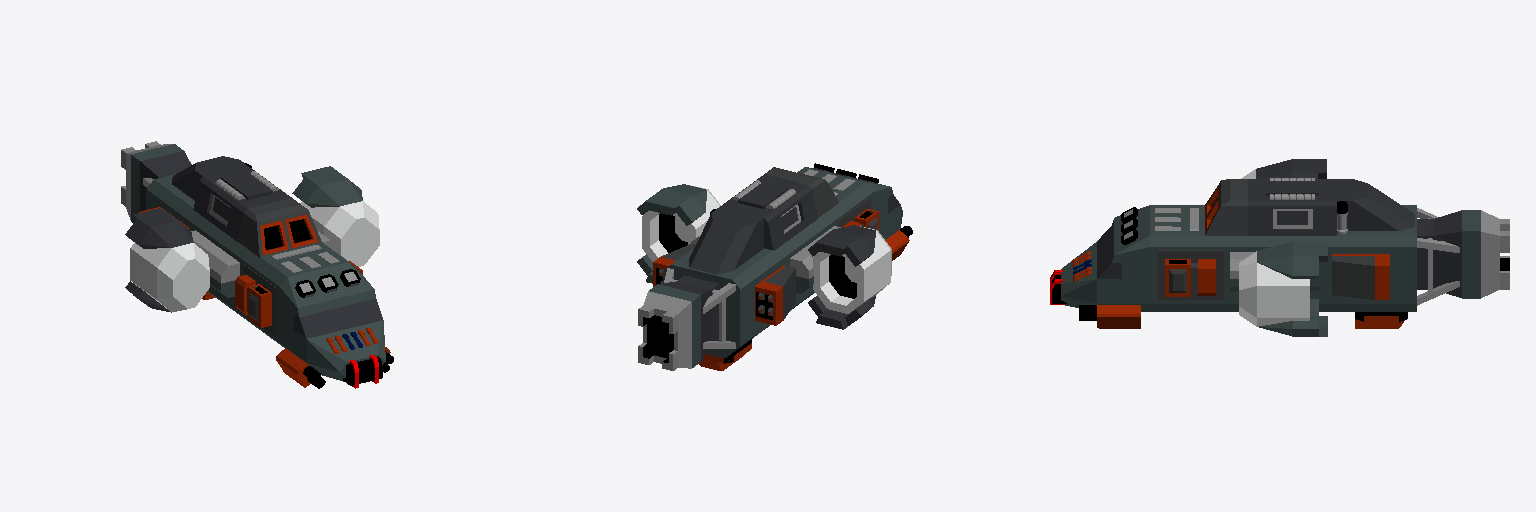
Rendered from ship_3.obj.
3 renders of one model, left to right at view 1: azimuth 30°, elevation 25°; view 2: azimuth 150°, elevation 25°; view 3: azimuth 270°, elevation 25°, orthographic.
Visible parts, largest first — view 1: mergedBlocks; view 2: mergedBlocks; view 3: mergedBlocks.
Boxes of the visible parts, x1=… form: mergedBlocks: x1=121, y1=141, x2=393, y2=388; mergedBlocks: x1=637, y1=163, x2=912, y2=370; mergedBlocks: x1=1050, y1=159, x2=1509, y2=336.
Bounding box in the file's own units: 2.9 × 1.7 × 5.16.